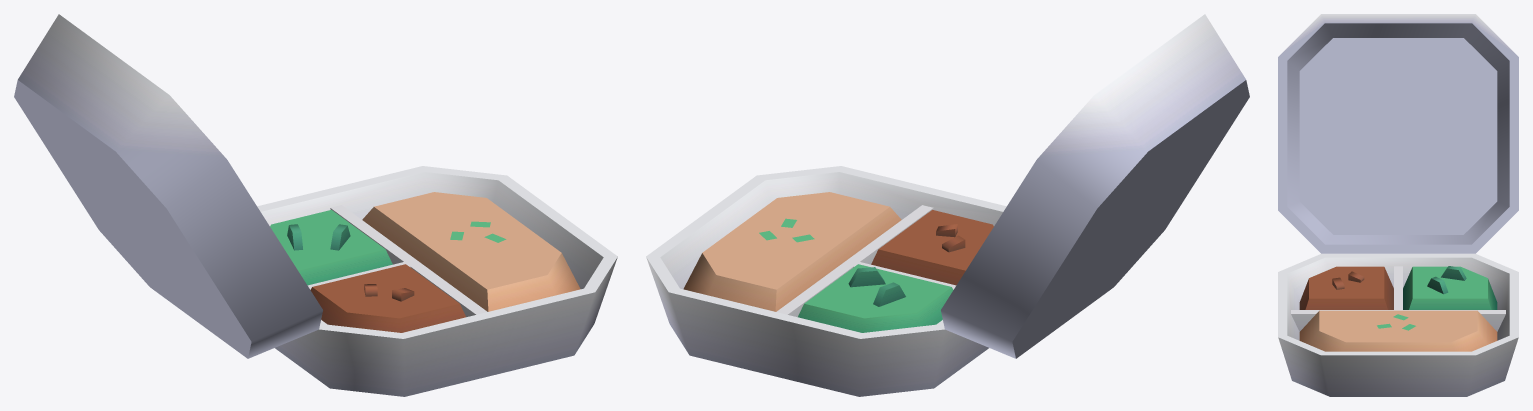
File: styrofoam-dinner.glb
3 renders of one model, left to right at view 1: azimuth 30°, elevation 25°; view 2: azimuth 150°, elevation 25°; view 3: azimuth 270°, elevation 25°, orthographic. The views are drawn at different scales.
Parts seen in each view (by area): view 1: lid, styrofoam-dinner, Group (×3); view 2: lid, styrofoam-dinner, Group (×3); view 3: lid, styrofoam-dinner, Group (×3).
Boxes of the visible parts, left/top/right/bottom form: lid: left=14, top=14, right=322, bottom=358; styrofoam-dinner: left=257, top=166, right=617, bottom=396; Group (×3): left=270, top=192, right=580, bottom=332; lid: left=941, top=14, right=1249, bottom=358; styrofoam-dinner: left=646, top=166, right=1006, bottom=396; Group (×3): left=683, top=192, right=993, bottom=332; lid: left=1278, top=14, right=1518, bottom=253; styrofoam-dinner: left=1278, top=253, right=1518, bottom=396; Group (×3): left=1299, top=266, right=1497, bottom=351.
Size of the model in its own units: 1.26 by 0.822 by 0.7589.
Materials: 1 (1 with a texture image).
